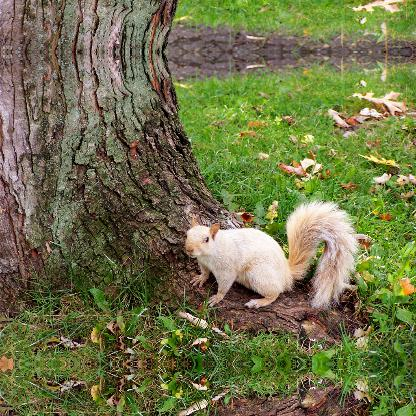Squirrel: (184, 198, 360, 308)
